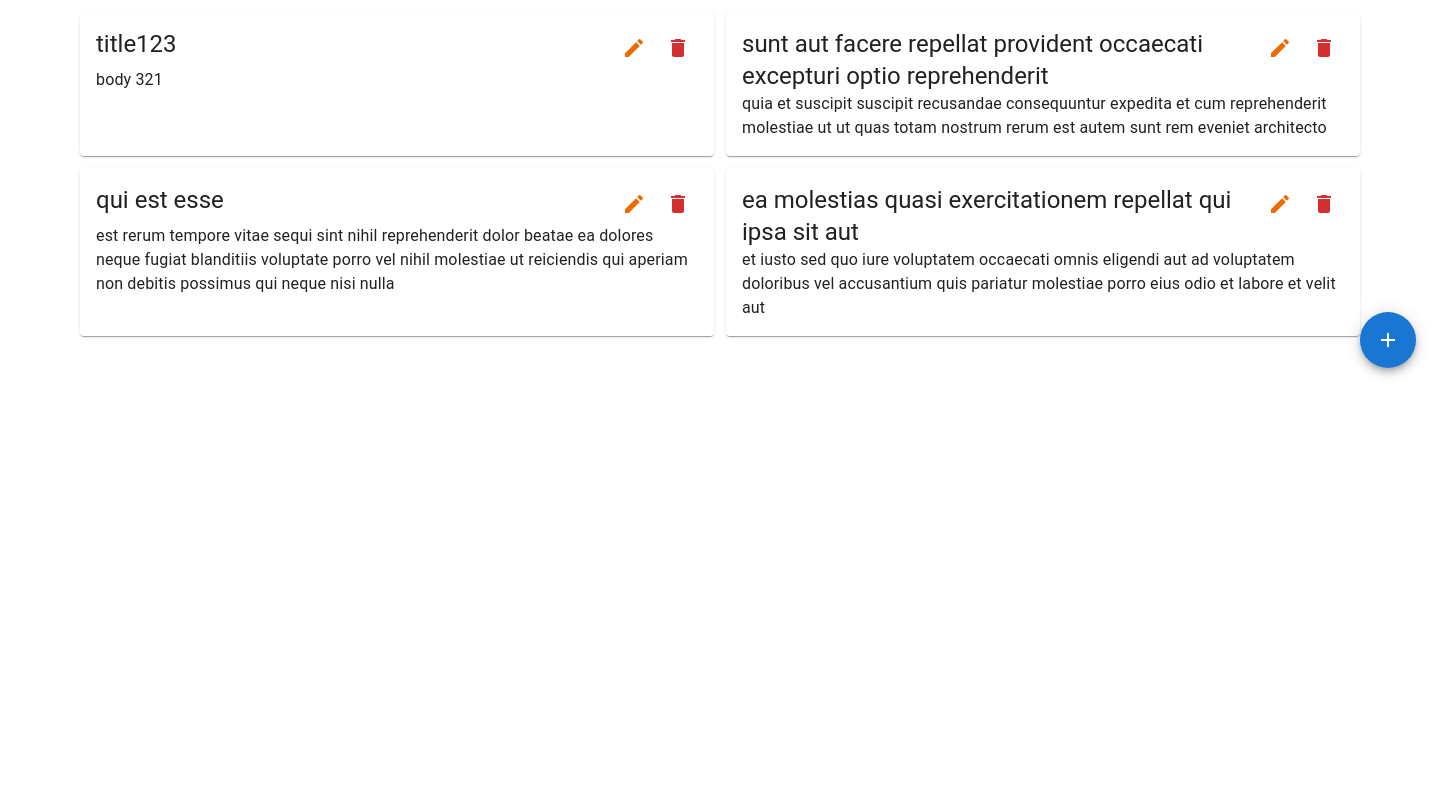
Custom Posts Pages › success edit data
This screenshot has width=1440, height=810.
expect the number of elements with test id "card-item" is 4: met, box top-left (80, 12), bottom-right (714, 156); top-left (726, 12), bottom-right (1360, 156); top-left (80, 168), bottom-right (714, 336); top-left (726, 168), bottom-right (1360, 336)
expect the heading "title123" is shown: met, box top-left (96, 28), bottom-right (177, 68)
Click the button named "edit-0".
click(634, 48)  # box top-left (614, 28), bottom-right (654, 68)
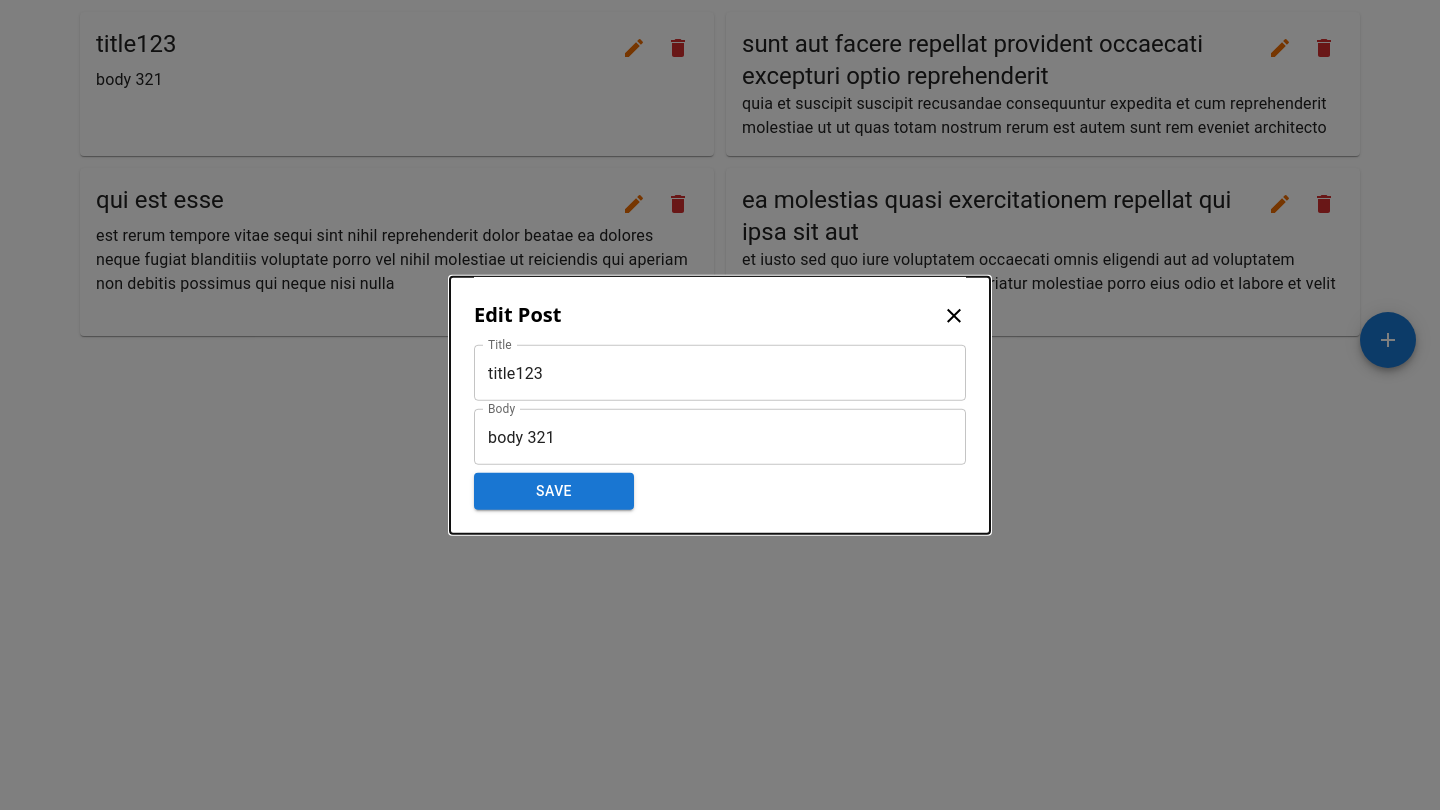
expect the text "edit post" is shown: met, box top-left (474, 301), bottom-right (561, 329)
expect the field labelled "Title" is shown: met
expect the field labelled "Title" holds "title123": met
Replace the text in the field labelled "Title" with "title123 edit" at (720, 373), box top-left (474, 345), bottom-right (966, 401)
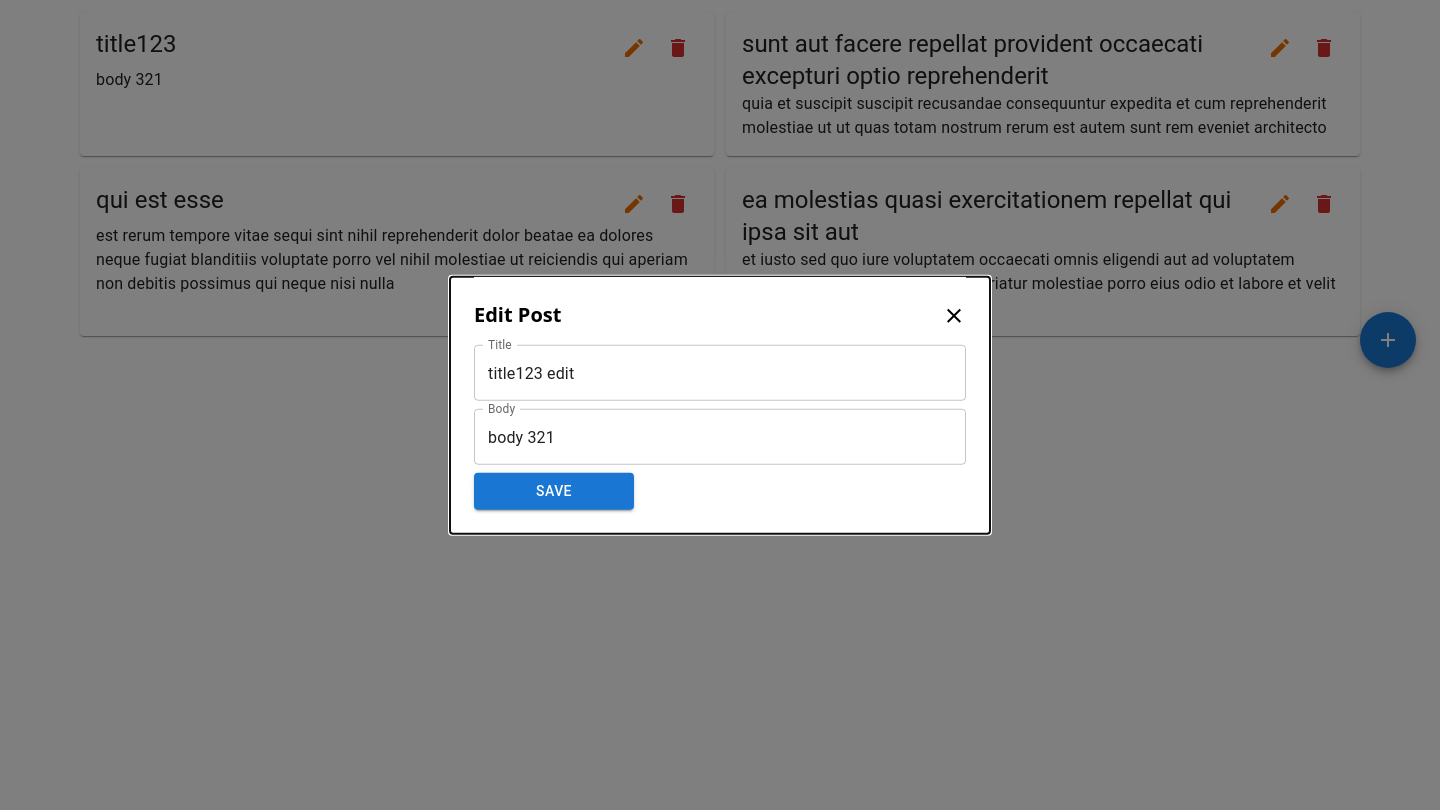
Click the button "Save".
click(554, 491)  # box top-left (474, 473), bottom-right (634, 509)
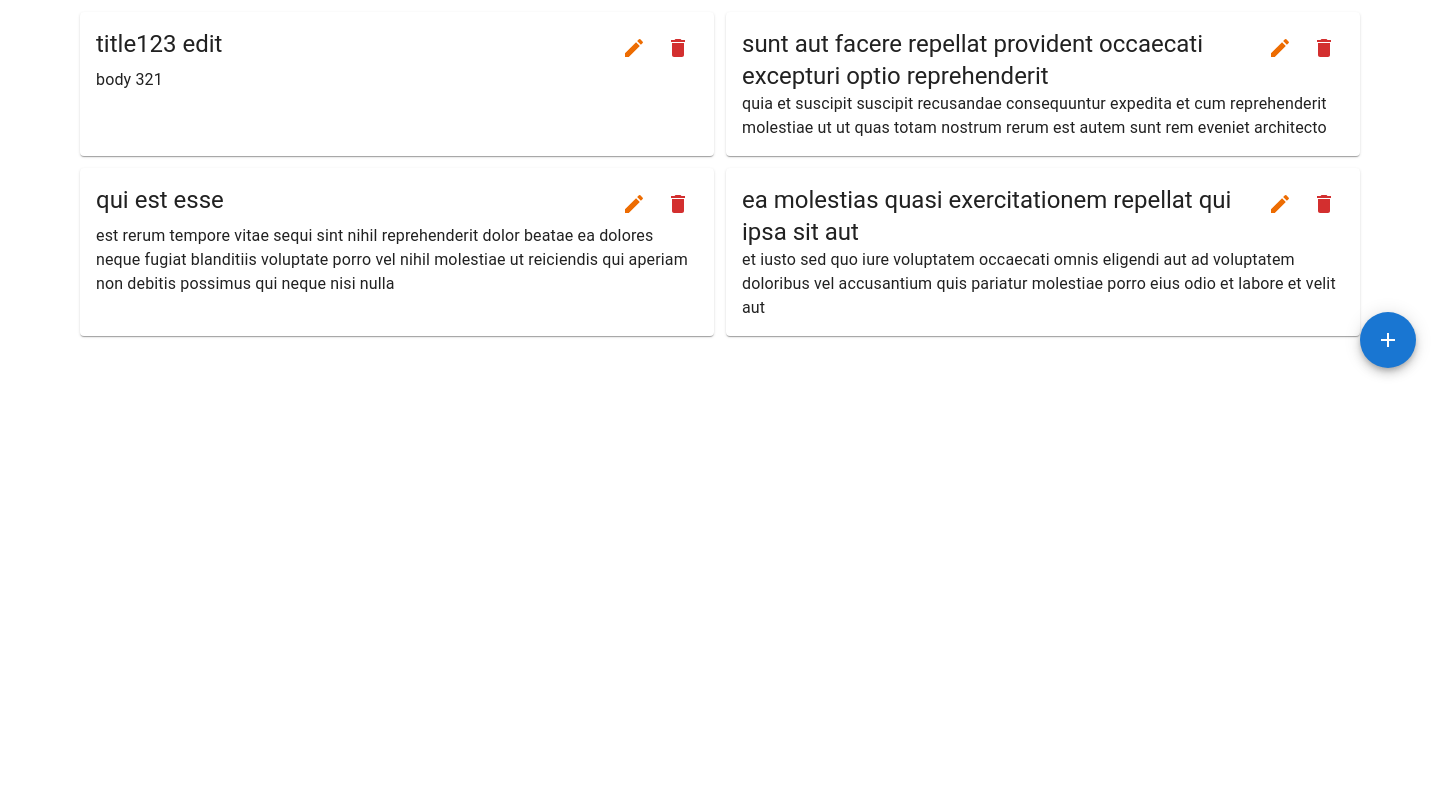
expect the number of elements with test id "card-item" is 4: met, box top-left (80, 12), bottom-right (714, 156); top-left (726, 12), bottom-right (1360, 156); top-left (80, 168), bottom-right (714, 336); top-left (726, 168), bottom-right (1360, 336)
expect the heading "title123 edit" is shown: met, box top-left (96, 28), bottom-right (222, 68)
